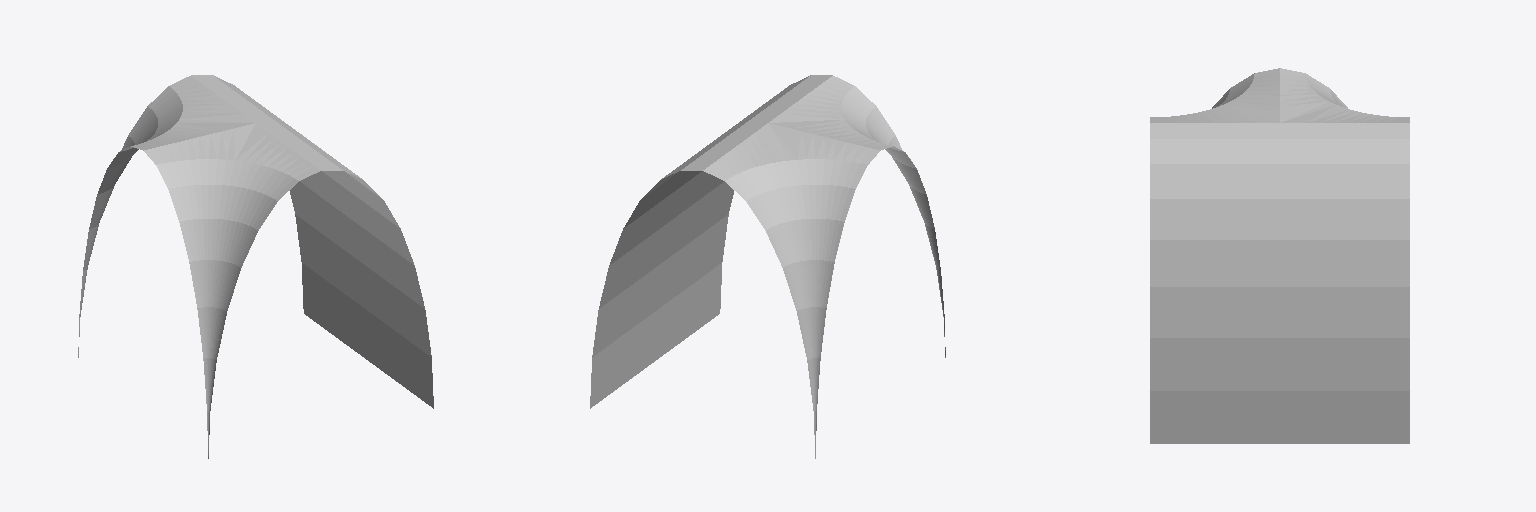
The model's file is connector_3way.obj.
3 renders of one model, left to right at view 1: azimuth 30°, elevation 25°; view 2: azimuth 150°, elevation 25°; view 3: azimuth 270°, elevation 25°, orthographic.
Visible parts, largest first — view 1: Connector_3way; view 2: Connector_3way; view 3: Connector_3way.
Boxes of the visible parts, x1,y1,x2,y2 form: Connector_3way: [78, 75, 433, 458]; Connector_3way: [590, 75, 945, 458]; Connector_3way: [1150, 68, 1409, 443].
Bounding box in the file's own units: 2 × 2.25 × 2.